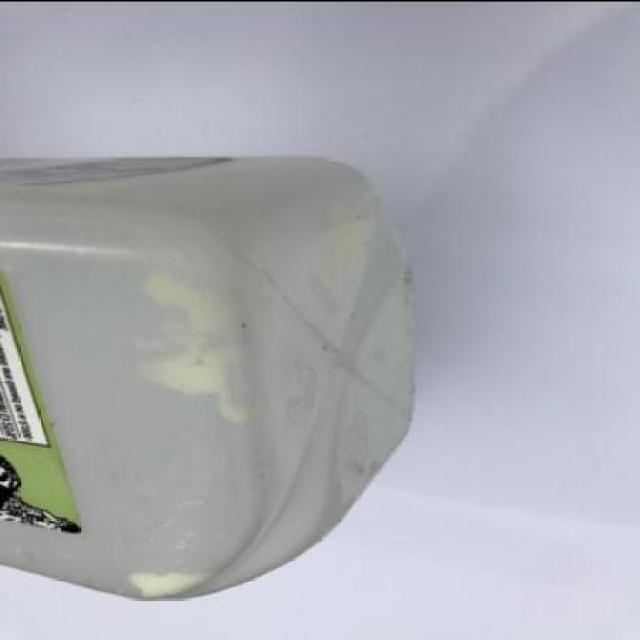PLASTIC: (1, 154, 417, 600)
